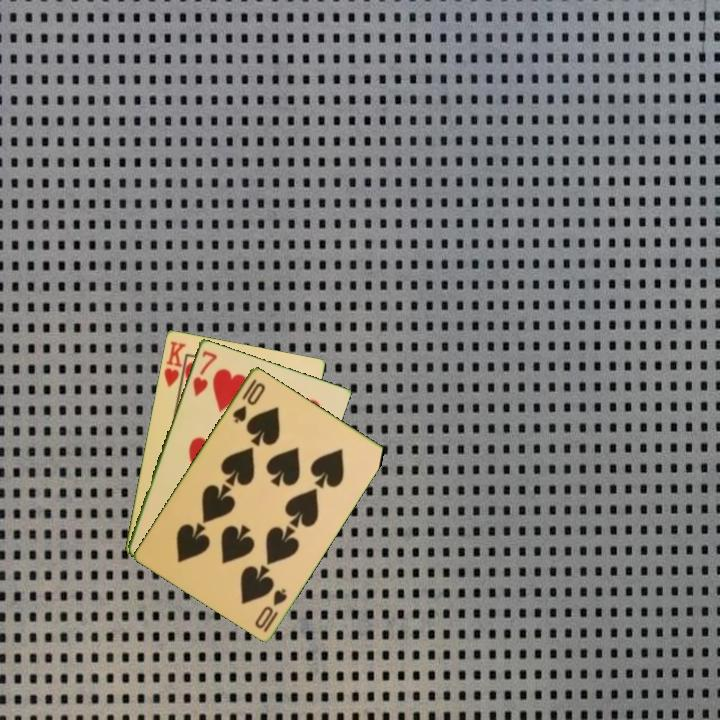10s: (229, 375, 268, 425), (251, 585, 290, 635)
7h: (189, 347, 220, 399)
Kh: (160, 337, 189, 394)
